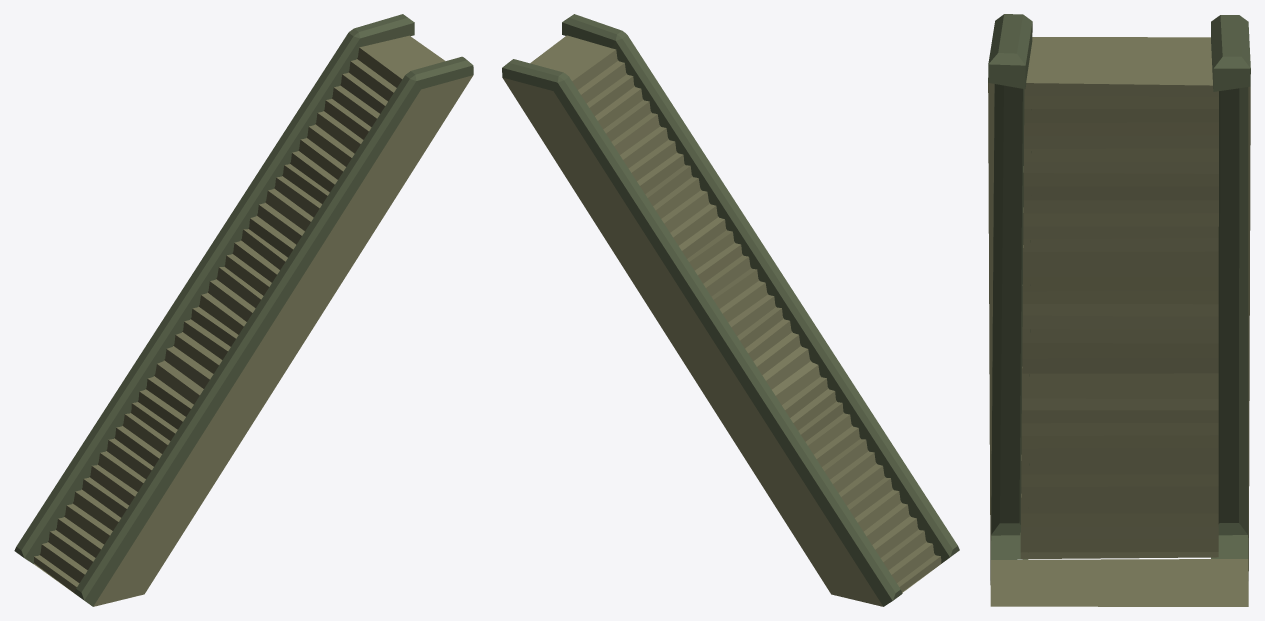
The model's file is Ladder2.fbx.
3 renders of one model, left to right at view 1: azimuth 30°, elevation 25°; view 2: azimuth 150°, elevation 25°; view 3: azimuth 270°, elevation 25°, orthographic. The views are drawn at different scales.
Visible parts, largest first — view 1: polySurface539; view 2: polySurface539; view 3: polySurface539.
Boxes of the visible parts, x1,y1,x2,y2 form: polySurface539: (14, 14, 473, 606); polySurface539: (502, 14, 959, 606); polySurface539: (988, 14, 1250, 606).
Size of the model in its own units: 1685 by 1865 by 522.
